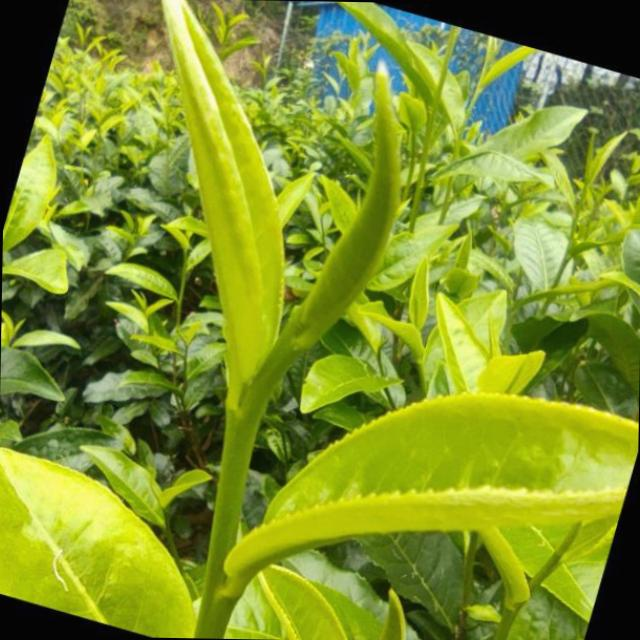Stem: (224, 411, 253, 452), (425, 117, 432, 127), (571, 214, 576, 222)
